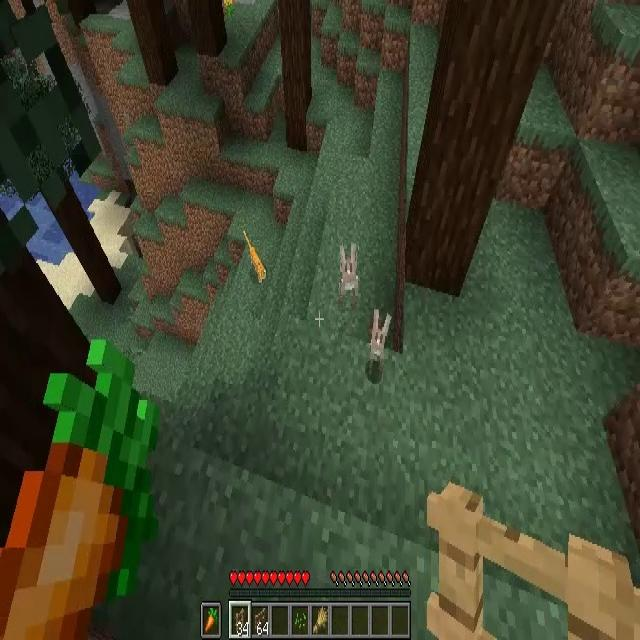rabbit: (369, 309, 393, 366), (341, 242, 358, 296)
